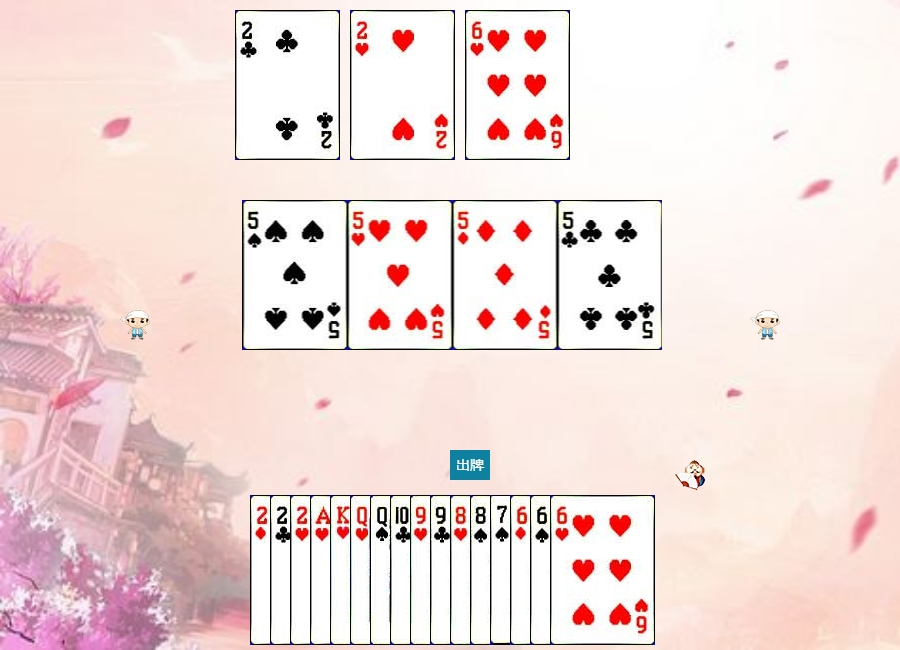10~2: (390, 495, 495, 645)
12~3: (350, 495, 455, 645)
12~4: (370, 495, 475, 645)
13~3: (330, 495, 435, 645)
14~3: (310, 495, 415, 645)
15~1: (250, 495, 355, 645)
15~2: (235, 10, 340, 160), (270, 495, 375, 645)
15~3: (350, 10, 455, 160), (290, 495, 395, 645)
5~1: (453, 200, 558, 350)
5~2: (558, 200, 663, 350)
5~3: (348, 200, 453, 350)
5~4: (243, 200, 348, 350)
6~1: (510, 495, 615, 645)
6~3: (465, 10, 570, 160), (550, 495, 655, 645)
6~4: (530, 495, 635, 645)
7~4: (490, 495, 595, 645)
8~3: (450, 495, 555, 645)
8~4: (470, 495, 575, 645)
9~2: (430, 495, 535, 645)
9~3: (410, 495, 515, 645)
